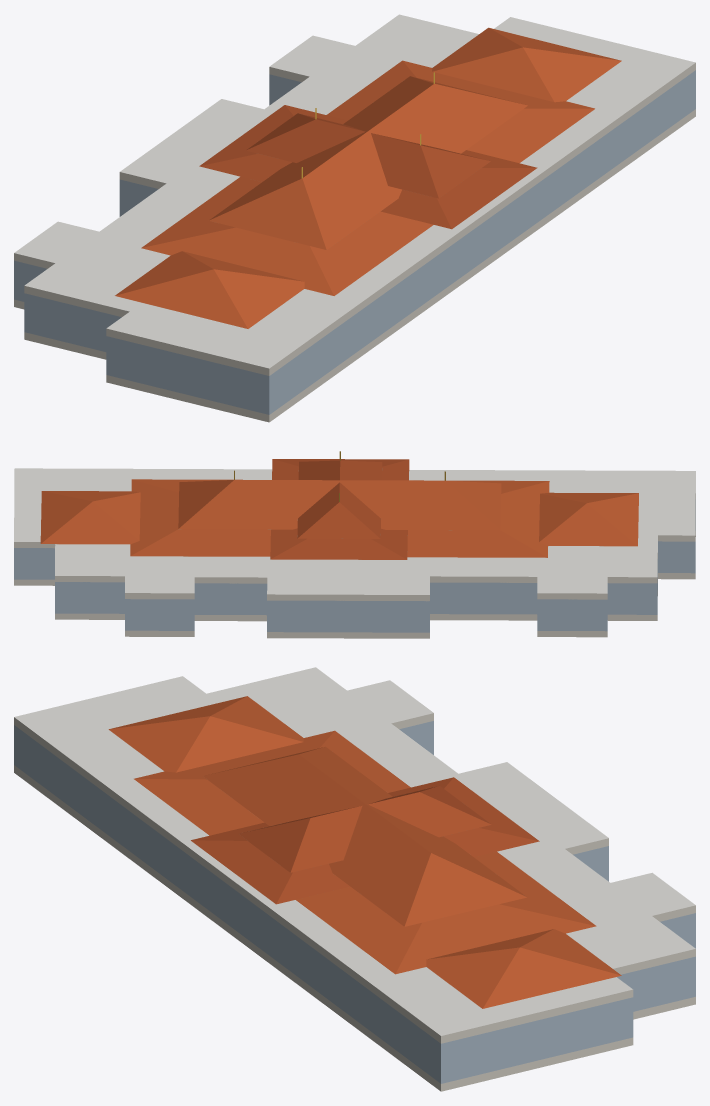
File: lcbcruise.glb
The picture shows the model from 3 angles, top to bottom: view 1: azimuth 30°, elevation 25°; view 2: azimuth 150°, elevation 25°; view 3: azimuth 270°, elevation 25°; orthographic projection. The views are drawn at different scales.
Visible parts, largest first — view 1: lcbcruise; view 2: lcbcruise; view 3: lcbcruise.
Part boxes in pixels (x1=…): lcbcruise: x1=14, y1=14, x2=695, y2=422; lcbcruise: x1=14, y1=451, x2=695, y2=638; lcbcruise: x1=14, y1=667, x2=695, y2=1091.
Size of the model in its own units: 122 by 17.94 by 95.45.
